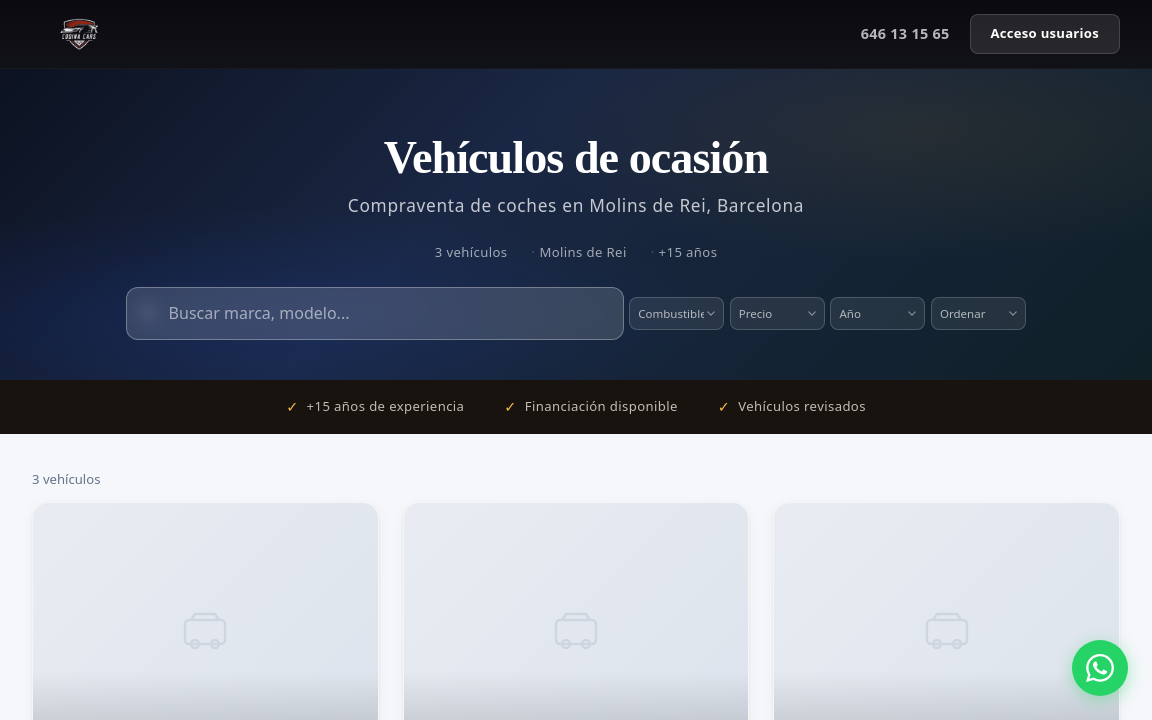
Test: PublicCatalog › shows empty state when no vehicles match filters
Type "nonexistent" into the field named "Buscar vehículos".
click(375, 314); type("nonexistent")  # box [126, 287, 624, 340]
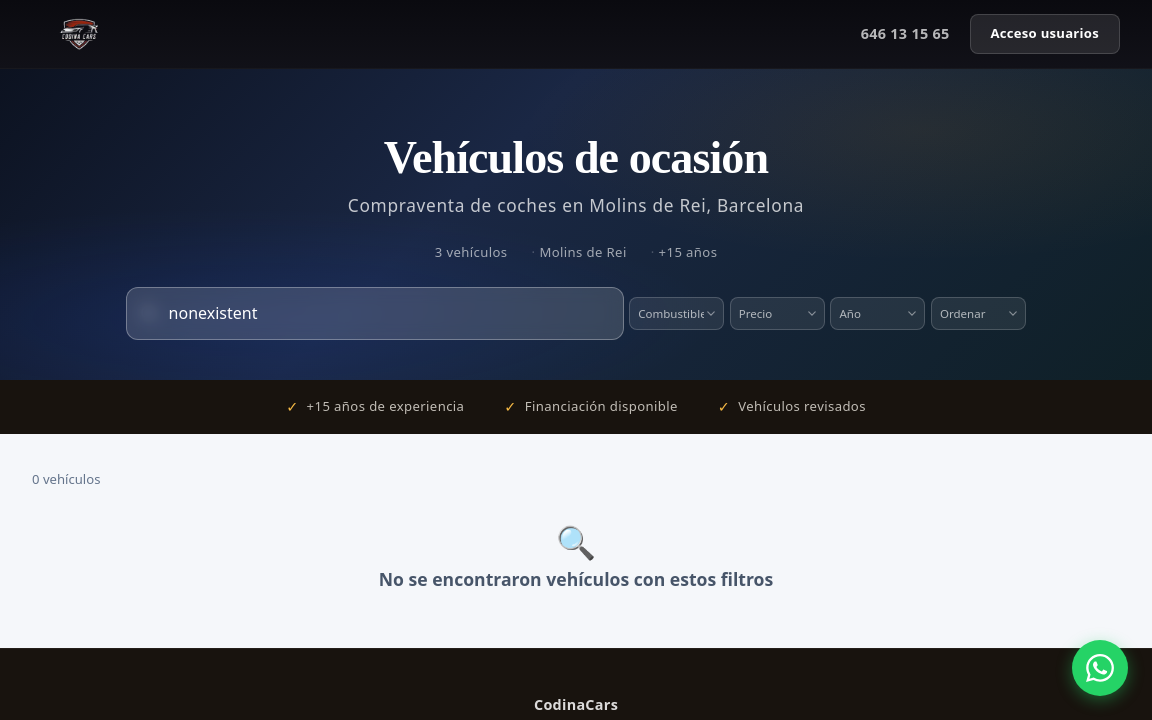
Now the text "No se encontraron vehículos con estos filtros" is shown, box [379, 566, 773, 592]
